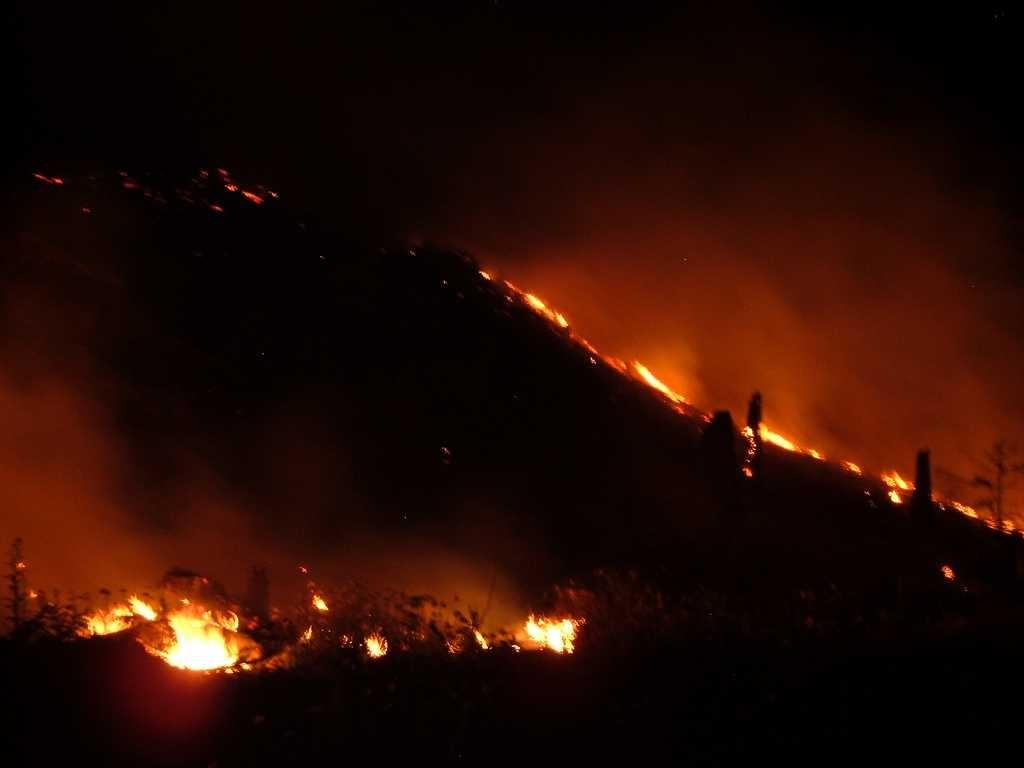fire: (621, 341, 917, 484), (71, 581, 272, 678), (504, 591, 605, 662)
